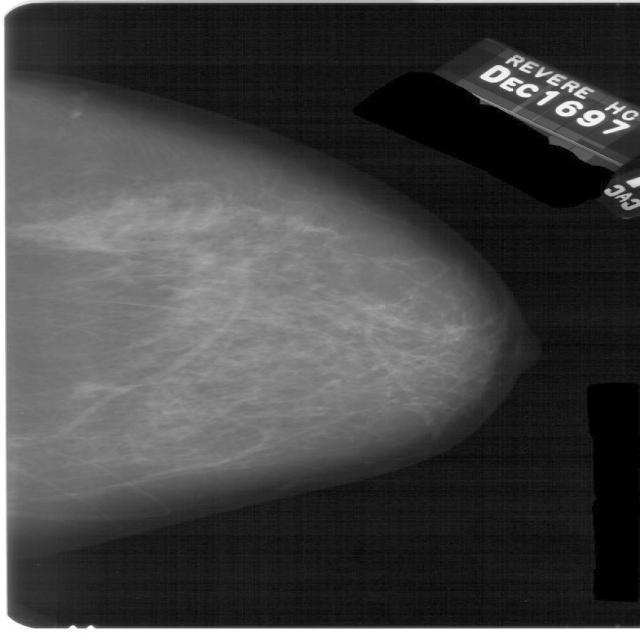tumour: (65, 378, 110, 398)
